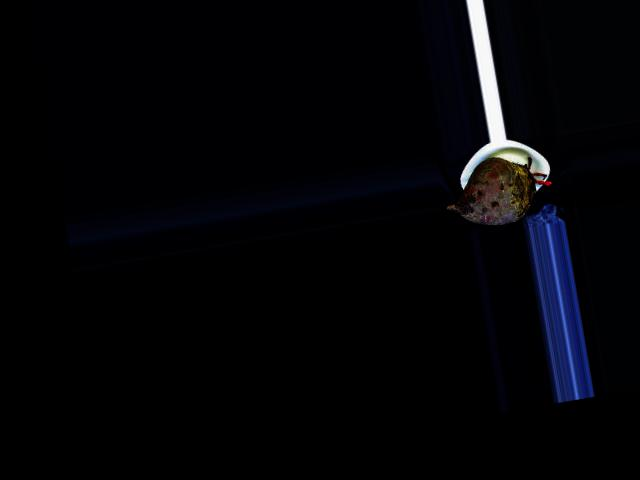beet: (440, 148, 557, 231)
